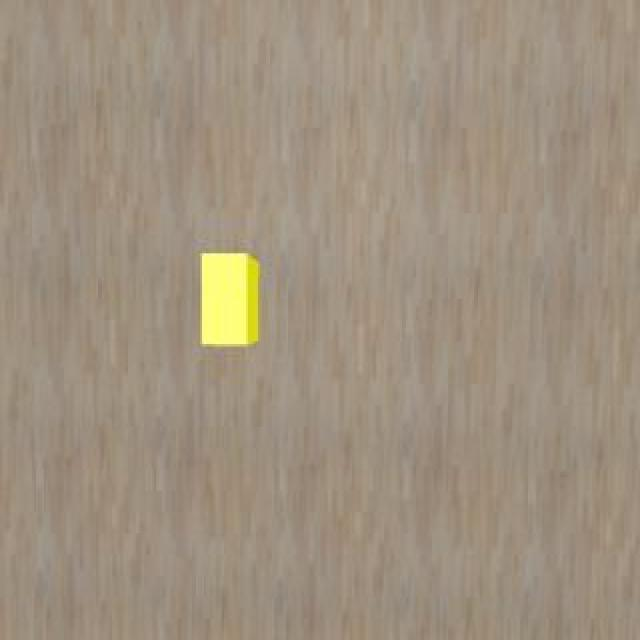cube-cAb5: (197, 252, 263, 351)
